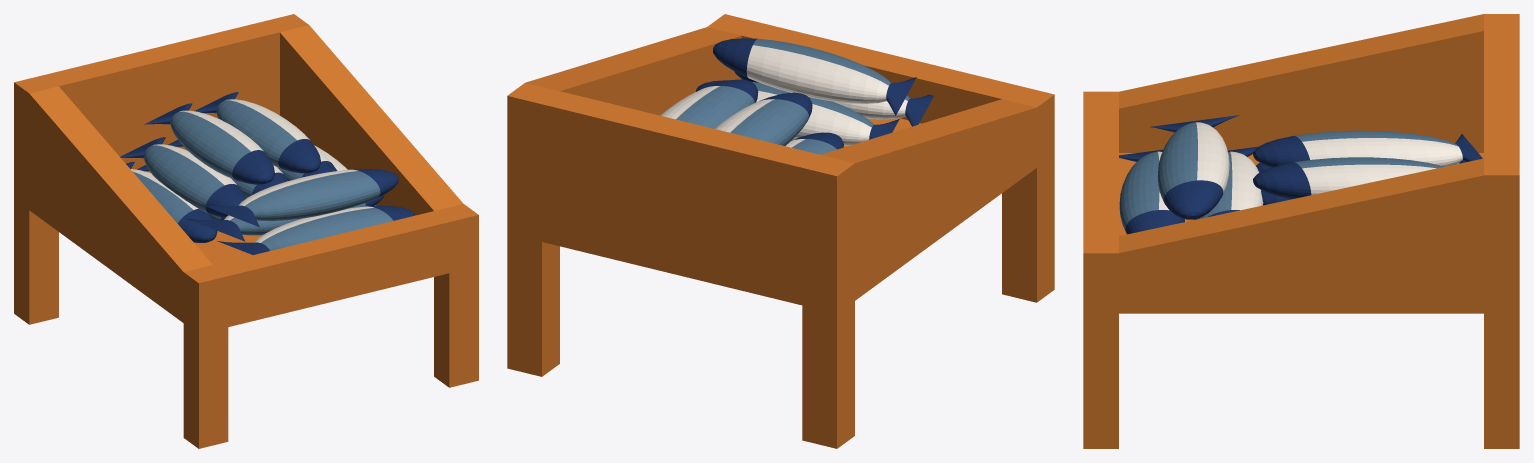
The model's file is fishcart.fbx.
The picture shows the model from 3 angles, left to right: view 1: azimuth 30°, elevation 25°; view 2: azimuth 150°, elevation 25°; view 3: azimuth 270°, elevation 25°; orthographic projection. The views are drawn at different scales.
Parts seen in each view (by area): view 1: Cube; view 2: Cube; view 3: Cube.
Part boxes in pixels (left/top/right/bottom): Cube: left=14, top=14, right=478, bottom=448; Cube: left=507, top=14, right=1054, bottom=448; Cube: left=1083, top=14, right=1519, bottom=448.
Bounding box in the file's own units: 706 × 557 × 806.
